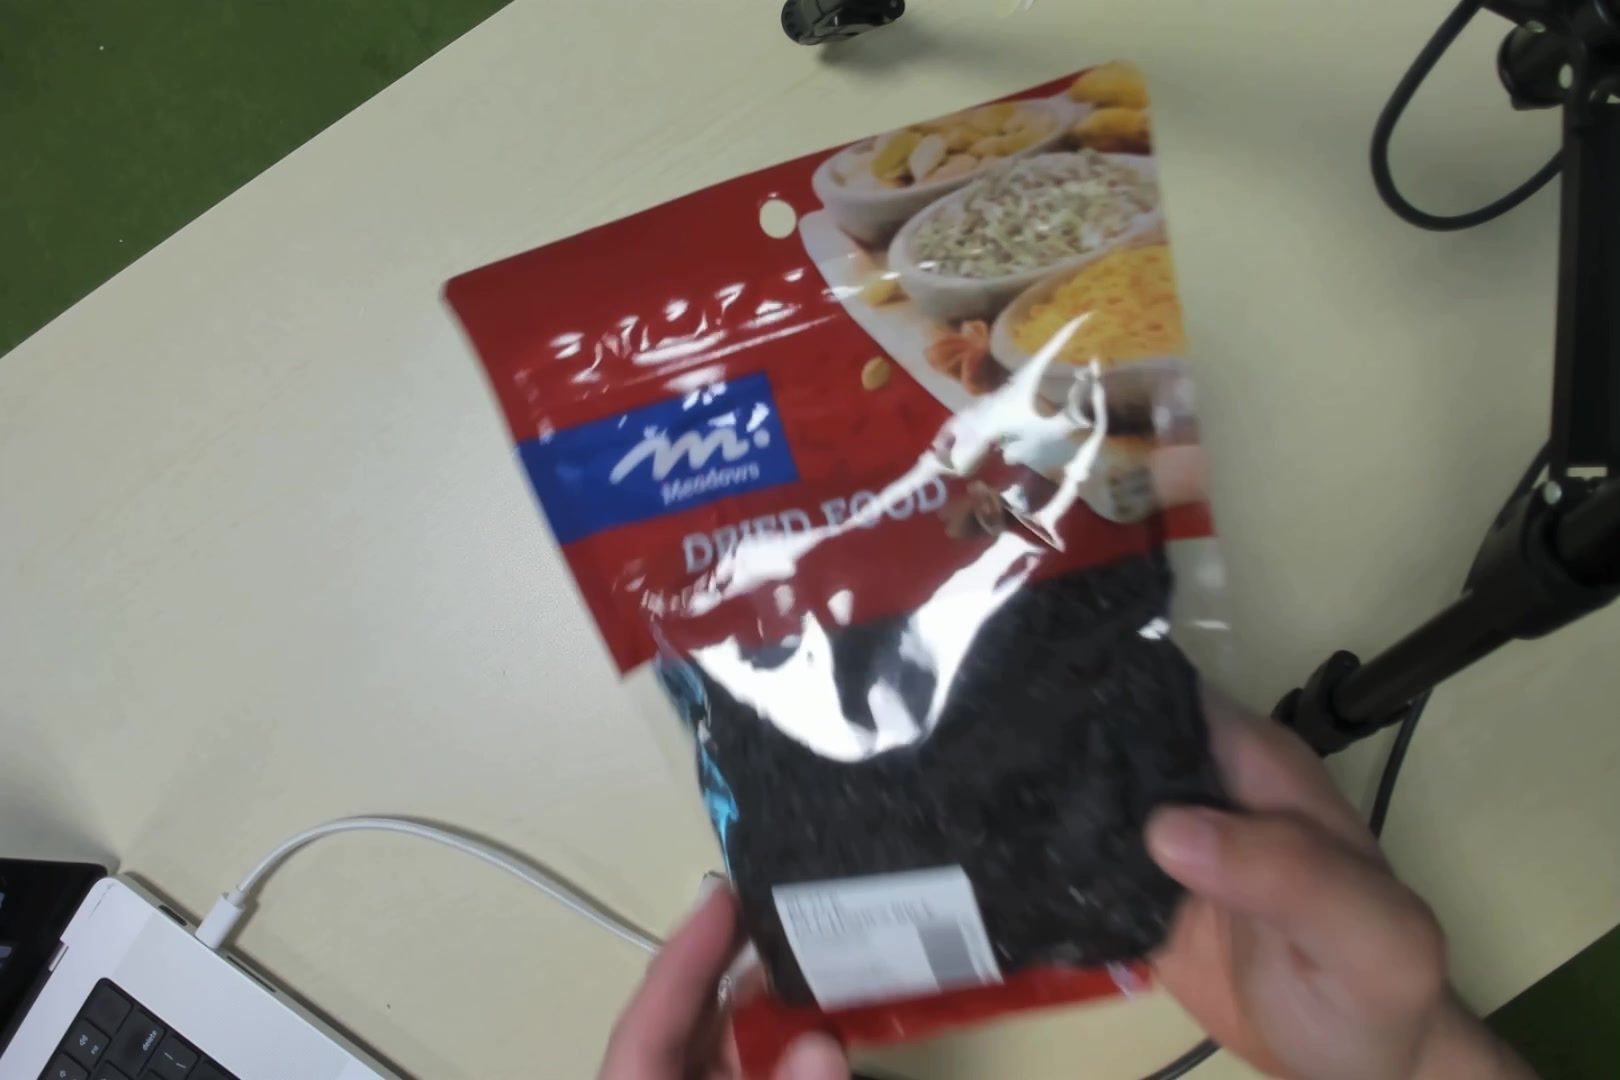OtherDriedFood_100-199g_NonHalal_NonHealthy: (630, 133, 1223, 1026)
